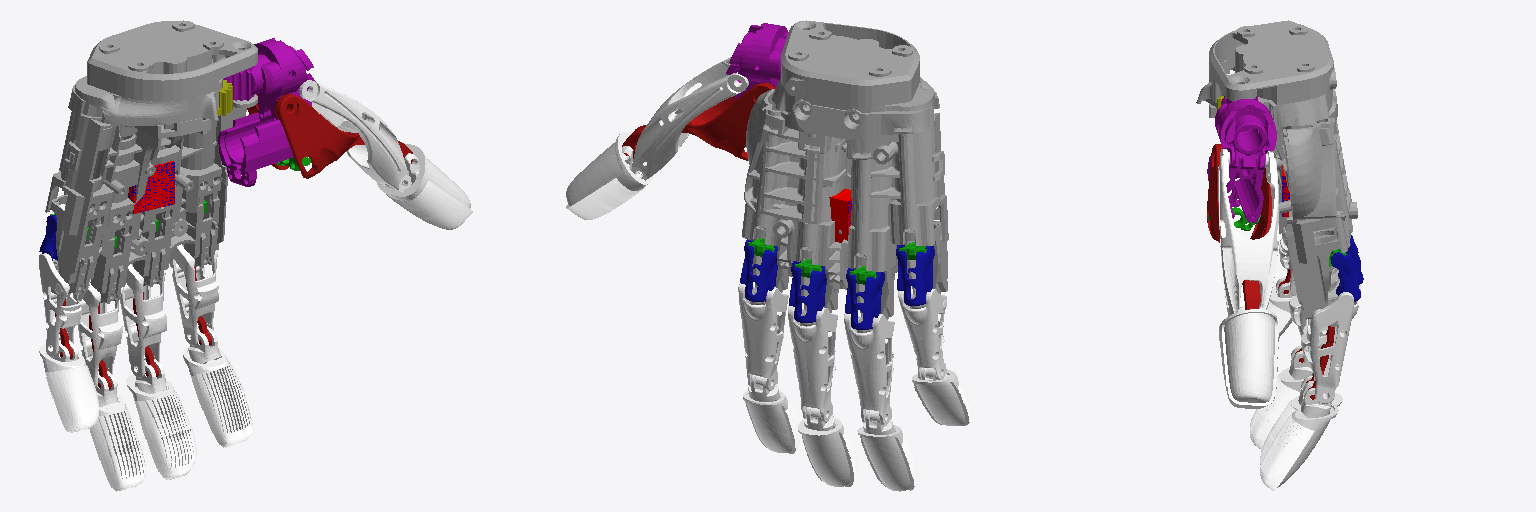
--- What the picture shows (computed from the rendered views, not written in the file) ---
The picture shows the robot from 3 angles, left to right: view 1: azimuth 30°, elevation 25°; view 2: azimuth 150°, elevation 25°; view 3: azimuth 270°, elevation 25°; orthographic projection.
Robot: covvi_hand_left — 87 links, 86 joints (32 revolute, 54 fixed); root link __base_link; default pose: joints at zero except 8 at the middle of their limits (, +8 more).
Links seen in each view (by area): view 1: base_link, thumb_chassis, thumb_proximal, middle_distal, index_distal, ring_distal, thumb_link, thumb_distal, little_distal, middle_proximal, index_proximal, ring_proximal (+2 smaller); view 2: base_link, thumb_proximal, thumb_distal, middle_proximal, ring_proximal, index_proximal, middle_distal, thumb_link, ring_distal, index_distal, thumb_chassis, little_proximal (+6 smaller); view 3: base_link, thumb_distal, thumb_proximal, thumb_chassis, index_distal, index_proximal, thumb_link, ring_distal, index_knuckle, little_distal, middle_distal.
Link boxes in pixels (x1,y1,x2,y2): base_link: [45, 20, 257, 303]; thumb_chassis: [218, 38, 315, 186]; thumb_proximal: [299, 80, 411, 192]; middle_distal: [126, 358, 196, 479]; index_distal: [183, 326, 253, 447]; ring_distal: [90, 369, 145, 491]; thumb_link: [247, 94, 412, 178]; thumb_distal: [377, 144, 472, 229]; little_distal: [39, 338, 98, 432]; middle_proximal: [120, 264, 166, 377]; index_proximal: [169, 244, 218, 345]; ring_proximal: [73, 283, 122, 387]; base_link: [742, 20, 948, 332]; thumb_proximal: [631, 57, 748, 180]; thumb_distal: [566, 132, 653, 219]; middle_proximal: [788, 305, 837, 422]; ring_proximal: [844, 313, 894, 425]; index_proximal: [738, 283, 788, 390]; middle_distal: [798, 402, 857, 486]; thumb_link: [622, 82, 775, 160]; ring_distal: [857, 407, 917, 491]; index_distal: [743, 372, 799, 453]; thumb_chassis: [726, 23, 788, 100]; little_proximal: [898, 289, 946, 379]; base_link: [1196, 20, 1357, 326]; thumb_distal: [1219, 306, 1278, 408]; thumb_proximal: [1218, 149, 1278, 316]; thumb_chassis: [1207, 96, 1276, 222]; index_distal: [1260, 384, 1338, 490]; index_proximal: [1301, 281, 1358, 403]; thumb_link: [1207, 144, 1271, 309]; ring_distal: [1250, 346, 1312, 449]; index_knuckle: [1331, 250, 1360, 301]; little_distal: [1267, 277, 1292, 337]; middle_distal: [1260, 376, 1342, 464].
Bounding box of the posed robot: 9.94 × 3.65 × 10.22 m (x, y, z).
27 mesh visuals loaded from 27 distinct referenced files (27 binary STL).

The robot description file, URDF, robot "covvi_hand_left":
<?xml version="1.0" encoding="utf-8"?>
<robot name="covvi_hand_left">

    <link name="__base_link">
        <visual>
            <origin xyz="0 0 0" rpy="0 0 0"/>
            <geometry><box size="1 1 1"/></geometry>
            <material name="r64740"><color rgba="1 0 0 0"/></material>
        </visual>
        <inertial>
            <mass value="1"/>
            <inertia ixx="1.0" ixy="0.0" ixz="0.0" iyy="1.0" iyz="0.0" izz="1.0"/>
        </inertial>
    </link>

    <link name="_base_link">
        <visual>
            <origin xyz="0 0 0" rpy="0 0 0"/>
            <geometry><box size="1 1 1"/></geometry>
            <material name="r36844"><color rgba="0 0 1 0"/></material>
        </visual>
        <inertial>
            <mass value="1"/>
            <inertia ixx="1.0" ixy="0.0" ixz="0.0" iyy="1.0" iyz="0.0" izz="1.0"/>
        </inertial>
    </link>

    <joint name="__joint_base_link" type="fixed">
        <origin xyz="0 0 0" rpy="-1.5707963267948966 -3.141592653589793 -0.0"/>
        <parent link="__base_link"/>
        <child link="_base_link"/>
        <axis xyz="0 0 1"/>
    </joint>

    <link name="base_link">
        <visual>
            <origin xyz="0.0 0.0 0.0" rpy="0 0 0"/>
            <geometry><mesh filename="package://hand_pack/urdf/linear_meshes/right_base_link.STL" scale="-0.0625 -0.0625 -0.0625"/></geometry>
            <material name=""><color rgba="0.7 0.7 0.7 1.0"/></material>
        </visual>
        <inertial>
            <mass value="0"/>
            <inertia ixx="0.0" ixy="0.0" ixz="0.0" iyy="0.0" iyz="0.0" izz="0.0"/>
        </inertial>
    </link>

    <joint name="_joint_base_link" type="fixed">
        <origin xyz="-0.10717067867517471 3.3973965644836426 -0.6303038001060486" rpy="0 0 0"/>
        <parent link="_base_link"/>
        <child link="base_link"/>
        <axis xyz="0 0 1"/>
    </joint>

        <link name="Thumb_driver_link">
        <visual>
            <origin xyz="0 0 0" rpy="0 0 0"/>
            <geometry><box size="0 0 0"/></geometry>
            <material name="r8581"><color rgba="0 0 0 0"/></material>
        </visual>
        <inertial>
            <mass value="1"/>
            <inertia ixx="1.0" ixy="0.0" ixz="0.0" iyy="1.0" iyz="0.0" izz="1.0"/>
        </inertial>
    </link>
    <joint name="Thumb" type="revolute">
        <origin xyz="0 0 0"/><parent link="base_link"/><child link="Thumb_driver_link"/><axis xyz="0 0 1"/>
        <limit lower="0.00000000000000000000" upper="1.00000000000000000000" effort="0" velocity="0"/>
    </joint>
    <link name="Index_driver_link">
        <visual>
            <origin xyz="0 0 0" rpy="0 0 0"/>
            <geometry><box size="0 0 0"/></geometry>
            <material name="r80096"><color rgba="0 0 0 0"/></material>
        </visual>
        <inertial>
            <mass value="1"/>
            <inertia ixx="1.0" ixy="0.0" ixz="0.0" iyy="1.0" iyz="0.0" izz="1.0"/>
        </inertial>
    </link>
    <joint name="Index" type="revolute">
        <origin xyz="0 0 0"/><parent link="base_link"/><child link="Index_driver_link"/><axis xyz="0 0 1"/>
        <limit lower="0.00000000000000000000" upper="1.00000000000000000000" effort="0" velocity="0"/>
    </joint>
    <link name="Middle_driver_link">
        <visual>
            <origin xyz="0 0 0" rpy="0 0 0"/>
            <geometry><box size="0 0 0"/></geometry>
            <material name="r29195"><color rgba="0 0 0 0"/></material>
        </visual>
        <inertial>
            <mass value="1"/>
            <inertia ixx="1.0" ixy="0.0" ixz="0.0" iyy="1.0" iyz="0.0" izz="1.0"/>
        </inertial>
    </link>
    <joint name="Middle" type="revolute">
        <origin xyz="0 0 0"/><parent link="base_link"/><child link="Middle_driver_link"/><axis xyz="0 0 1"/>
        <limit lower="0.00000000000000000000" upper="1.00000000000000000000" effort="0" velocity="0"/>
    </joint>
    <link name="Ring_driver_link">
        <visual>
            <origin xyz="0 0 0" rpy="0 0 0"/>
            <geometry><box size="0 0 0"/></geometry>
            <material name="r56624"><color rgba="0 0 0 0"/></material>
        </visual>
        <inertial>
            <mass value="1"/>
            <inertia ixx="1.0" ixy="0.0" ixz="0.0" iyy="1.0" iyz="0.0" izz="1.0"/>
        </inertial>
    </link>
    <joint name="Ring" type="revolute">
        <origin xyz="0 0 0"/><parent link="base_link"/><child link="Ring_driver_link"/><axis xyz="0 0 1"/>
        <limit lower="0.00000000000000000000" upper="1.00000000000000000000" effort="0" velocity="0"/>
    </joint>
    <link name="Little_driver_link">
        <visual>
            <origin xyz="0 0 0" rpy="0 0 0"/>
            <geometry><box size="0 0 0"/></geometry>
            <material name="r19059"><color rgba="0 0 0 0"/></material>
        </visual>
        <inertial>
            <mass value="1"/>
            <inertia ixx="1.0" ixy="0.0" ixz="0.0" iyy="1.0" iyz="0.0" izz="1.0"/>
        </inertial>
    </link>
    <joint name="Little" type="revolute">
        <origin xyz="0 0 0"/><parent link="base_link"/><child link="Little_driver_link"/><axis xyz="0 0 1"/>
        <limit lower="0.00000000000000000000" upper="1.00000000000000000000" effort="0" velocity="0"/>
    </joint>
    <link name="Rotate_driver_link">
        <visual>
            <origin xyz="0 0 0" rpy="0 0 0"/>
            <geometry><box size="0 0 0"/></geometry>
            <material name="r99843"><color rgba="0 0 0 0"/></material>
        </visual>
        <inertial>
            <mass value="1"/>
            <inertia ixx="1.0" ixy="0.0" ixz="0.0" iyy="1.0" iyz="0.0" izz="1.0"/>
        </inertial>
    </link>
    <joint name="Rotate" type="revolute">
        <origin xyz="0 0 0"/><parent link="base_link"/><child link="Rotate_driver_link"/><axis xyz="0 0 1"/>
        <limit lower="0.00000000000000000000" upper="1.00000000000000000000" effort="0" velocity="0"/>
    </joint>

        <link name="lisa">
        <visual>
            <origin xyz="0.0 0.0 0.0" rpy="0 0 0"/>
            <geometry><mesh filename="package://hand_pack/urdf/linear_meshes/right_lisa.STL" scale="-0.0625 -0.0625 -0.0625"/></geometry>
            <material name=""><color rgba="0.7 0.7 0.1 1.0"/></material>
        </visual>
        <inertial>
            <mass value="0"/>
            <inertia ixx="0.0" ixy="0.0" ixz="0.0" iyy="0.0" iyz="0.0" izz="0.0"/>
        </inertial>
    </link>
        <link name="_lisa_l0">
        <visual>
            <origin xyz="0 0 0" rpy="0 0 0"/>
            <geometry><box size="0 0 0"/></geometry>
            <material name=""><color rgba="0 0 0 0"/></material>
        </visual>
        <inertial>
            <mass value="0"/>
            <inertia ixx="0.0" ixy="0.0" ixz="0.0" iyy="0.0" iyz="0.0" izz="0.0"/>
        </inertial>
    </link>

    <joint name="_lisa_j_input_joint" type="fixed">
        <origin xyz="-0.6649580028042494 -1.243265013263121 -0.7747941474098129" rpy="-0.00000001490116097180 0 0"/>
        <parent link="base_link"/>
        <axis xyz="8.166136313026937e-09 0.9999999999999999 1.300658039224663e-08"/>
        <child link="_lisa_l0"/>
    </joint>

    
    <link name="_lisa_l1">
        <visual>
            <origin xyz="0 0 -0.00000000000000000000" rpy="0 0 -0.00000001490116097180"/>
            <geometry><box size="0 0 0"/></geometry>
            <material name="r98492"><color rgba="0 0 0 0"/></material>
        </visual>
        <inertial>
            <mass value="1"/>
            <inertia ixx="1.0" ixy="0.0" ixz="0.0" iyy="1.0" iyz="0.0" izz="1.0"/>
        </inertial>
    </link>
    <joint name="_lisa_j01" type="revolute">
        <origin xyz="0 0 0.00000000000000000000" rpy="0 0 0"/>
        <parent link="_lisa_l0"/>
        <child link="_lisa_l1"/>
        <axis xyz="8.166136313026937e-09 0.9999999999999999 1.300658039224663e-08"/>
        <mimic joint="Rotate" multiplier="1.07337741974876732520" offset="0.00000001490116097180"/>
        <limit lower="0.00000001490116097180" upper="1.07337743464992829701" effort="0" velocity="0"/>
    </joint>


    <joint name="_lisa_j_lisa" type="fixed">
        <origin xyz="0.6649580028042494 1.243265013263121 0.7747941474098129" rpy="-0.00000001490116097180 0 0"/>
        <parent link="_lisa_l1"/>
        <child link="lisa"/>
    </joint>
    <link name="thumb_chassis">
        <visual>
            <origin xyz="0.0 0.0 0.0" rpy="0 0 0"/>
            <geometry><mesh filename="package://hand_pack/urdf/linear_meshes/right_thumb_chassis.STL" scale="-0.0625 -0.0625 -0.0625"/></geometry>
            <material name=""><color rgba="0.7 0.1 0.7 1.0"/></material>
        </visual>
        <inertial>
            <mass value="0"/>
            <inertia ixx="0.0" ixy="0.0" ixz="0.0" iyy="0.0" iyz="0.0" izz="0.0"/>
        </inertial>
    </link>
        <link name="_thumb_chassis_l0">
        <visual>
            <origin xyz="0 0 0" rpy="0 0 0"/>
            <geometry><box size="0 0 0"/></geometry>
            <material name=""><color rgba="0 0 0 0"/></material>
        </visual>
        <inertial>
            <mass value="0"/>
            <inertia ixx="0.0" ixy="0.0" ixz="0.0" iyy="0.0" iyz="0.0" izz="0.0"/>
        </inertial>
    </link>

    <joint name="_thumb_chassis_j_input_joint" type="fixed">
        <origin xyz="-1.514903298568658 -1.432445559291959 -0.7844313794953435" rpy="-0.00000002107342389479 0 0"/>
        <parent link="base_link"/>
        <axis xyz="-1.0039121702977482e-08 -0.9999999999999999 1.8777992879094288e-08"/>
        <child link="_thumb_chassis_l0"/>
    </joint>

    
    <link name="_thumb_chassis_l1">
        <visual>
            <origin xyz="0 0 -0.00000000000000000000" rpy="0 0 -0.00000002107342389479"/>
            <geometry><box size="0 0 0"/></geometry>
            <material name="r34489"><color rgba="0 0 0 0"/></material>
        </visual>
        <inertial>
            <mass value="1"/>
            <inertia ixx="1.0" ixy="0.0" ixz="0.0" iyy="1.0" iyz="0.0" izz="1.0"/>
        </inertial>
    </link>
    <joint name="_thumb_chassis_j01" type="revolute">
        <origin xyz="0 0 0.00000000000000000000" rpy="0 0 0"/>
        <parent link="_thumb_chassis_l0"/>
        <child link="_thumb_chassis_l1"/>
        <axis xyz="-1.0039121702977482e-08 -0.9999999999999999 1.8777992879094288e-08"/>
        <mimic joint="Rotate" multiplier="1.53339618284689227501" offset="0.00000002107342389479"/>
        <limit lower="0.00000002107342389479" upper="1.53339620392031616980" effort="0" velocity="0"/>
    </joint>


    <joint name="_thumb_chassis_j_thumb_chassis" type="fixed">
        <origin xyz="1.514903298568658 1.432445559291959 0.7844313794953435" rpy="-0.00000002107342389479 0 0"/>
        <parent link="_thumb_chassis_l1"/>
        <child link="thumb_chassis"/>
    </joint>
    <link name="thumb_proximal">
        <visual>
            <origin xyz="0.0 0.0 0.0" rpy="0 0 0"/>
            <geometry><mesh filename="package://hand_pack/urdf/linear_meshes/right_thumb_proximal.STL" scale="-0.0625 -0.0625 -0.0625"/></geometry>
            <material name=""><color rgba="1.0 1.0 1.0 1.0"/></material>
        </visual>
        <inertial>
            <mass value="0"/>
            <inertia ixx="0.0" ixy="0.0" ixz="0.0" iyy="0.0" iyz="0.0" izz="0.0"/>
        </inertial>
    </link>
        <link name="_thumb_proximal_l0">
        <visual>
            <origin xyz="0 0 0" rpy="0 0 0"/>
            <geometry><box size="0 0 0"/></geometry>
            <material name=""><color rgba="0 0 0 0"/></material>
        </visual>
        <inertial>
            <mass value="0"/>
            <inertia ixx="0.0" ixy="0.0" ixz="0.0" iyy="0.0" iyz="0.0" izz="0.0"/>
        </inertial>
    </link>

    <joint name="_thumb_proximal_j_input_joint" type="fixed">
        <origin xyz="-2.8720356292446443 -1.353914565668949 -0.6504721331635288" rpy="0.00000000000000016653 0 0"/>
        <parent link="thumb_chassis"/>
        <axis xyz="0.14866818156281958 -0.1305261869683429 0.9802350158540093"/>
        <child link="_thumb_proximal_l0"/>
    </joint>

    
    <link name="_thumb_proximal_l1">
        <visual>
            <origin xyz="0 0 -0.00000000000000000000" rpy="0 0 0.00000000000000016653"/>
            <geometry><box size="0 0 0"/></geometry>
            <material name="r31444"><color rgba="0 0 0 0"/></material>
        </visual>
        <inertial>
            <mass value="1"/>
            <inertia ixx="1.0" ixy="0.0" ixz="0.0" iyy="1.0" iyz="0.0" izz="1.0"/>
        </inertial>
    </link>
    <joint name="_thumb_proximal_j01" type="revolute">
        <origin xyz="0 0 0.00000000000000000000" rpy="0 0 0"/>
        <parent link="_thumb_proximal_l0"/>
        <child link="_thumb_proximal_l1"/>
        <axis xyz="0.14866818156281958 -0.1305261869683429 0.9802350158540093"/>
        <mimic joint="Thumb" multiplier="0.72022188617106031039" offset="-0.00000000000000016653"/>
        <limit lower="-0.00000000000000016653" upper="0.72022188617106019937" effort="0" velocity="0"/>
    </joint>


    <joint name="_thumb_proximal_j_thumb_proximal" type="fixed">
        <origin xyz="2.8720356292446443 1.353914565668949 0.6504721331635288" rpy="0.00000000000000016653 0 0"/>
        <parent link="_thumb_proximal_l1"/>
        <child link="thumb_proximal"/>
    </joint>
    <link name="thumb_distal">
        <visual>
            <origin xyz="0.0 0.0 0.0" rpy="0 0 0"/>
            <geometry><mesh filename="package://hand_pack/urdf/linear_meshes/right_thumb_distal.STL" scale="-0.0625 -0.0625 -0.0625"/></geometry>
            <material name=""><color rgba="1.0 1.0 1.0 1.0"/></material>
        </visual>
        <inertial>
            <mass value="0"/>
            <inertia ixx="0.0" ixy="0.0" ixz="0.0" iyy="0.0" iyz="0.0" izz="0.0"/>
        </inertial>
    </link>
        <link name="_thumb_distal_l0">
        <visual>
            <origin xyz="0 0 0" rpy="0 0 0"/>
            <geometry><box size="0 0 0"/></geometry>
            <material name=""><color rgba="0 0 0 0"/></material>
        </visual>
        <inertial>
            <mass value="0"/>
            <inertia ixx="0.0" ixy="0.0" ixz="0.0" iyy="0.0" iyz="0.0" izz="0.0"/>
        </inertial>
    </link>

    <joint name="_thumb_distal_j_input_joint" type="fixed">
        <origin xyz="-5.380329672338689 -4.204299673061814 -0.6377162617521437" rpy="0.00000000000000033307 0 0"/>
        <parent link="thumb_proximal"/>
        <axis xyz="0.1486681537240236 -0.13052619107234176 0.9802350195297231"/>
        <child link="_thumb_distal_l0"/>
    </joint>

    
    <link name="_thumb_distal_l1">
        <visual>
            <origin xyz="0 0 -0.00000000000000000000" rpy="0 0 0.00000000000000033307"/>
            <geometry><box size="0 0 0"/></geometry>
            <material name="r46589"><color rgba="0 0 0 0"/></material>
        </visual>
        <inertial>
            <mass value="1"/>
            <inertia ixx="1.0" ixy="0.0" ixz="0.0" iyy="1.0" iyz="0.0" izz="1.0"/>
        </inertial>
    </link>
    <joint name="_thumb_distal_j01" type="revolute">
        <origin xyz="0 0 0.00000000000000000000" rpy="0 0 0"/>
        <parent link="_thumb_distal_l0"/>
        <child link="_thumb_distal_l1"/>
        <axis xyz="0.1486681537240236 -0.13052619107234176 0.9802350195297231"/>
        <mimic joint="Thumb" multiplier="1.06686018440504470917" offset="-0.00000000000000033307"/>
        <limit lower="-0.00000000000000033307" upper="1.06686018440504426508" effort="0" velocity="0"/>
    </joint>


    <joint name="_thumb_distal_j_thumb_distal" type="fixed">
        <origin xyz="5.380329672338689 4.204299673061814 0.6377162617521437" rpy="0.00000000000000033307 0 0"/>
        <parent link="_thumb_distal_l1"/>
        <child link="thumb_distal"/>
    </joint>
    <link name="thumb_link">
        <visual>
            <origin xyz="0.0 0.0 0.0" rpy="0 0 0"/>
            <geometry><mesh filename="package://hand_pack/urdf/linear_meshes/right_thumb_link.STL" scale="-0.0625 -0.0625 -0.0625"/></geometry>
            <material name=""><color rgba="0.7 0.1 0.1 1.0"/></material>
        </visual>
        <inertial>
            <mass value="0"/>
            <inertia ixx="0.0" ixy="0.0" ixz="0.0" iyy="0.0" iyz="0.0" izz="0.0"/>
        </inertial>
    </link>
        <link name="_thumb_link_l0">
        <visual>
            <origin xyz="0 0 0" rpy="0 0 0"/>
            <geometry><box size="0 0 0"/></geometry>
            <material name=""><color rgba="0 0 0 0"/></material>
        </visual>
        <inertial>
            <mass value="0"/>
            <inertia ixx="0.0" ixy="0.0" ixz="0.0" iyy="0.0" iyz="0.0" izz="0.0"/>
        </inertial>
    </link>

    <joint name="_thumb_link_j_input_joint" type="fixed">
        <origin xyz="-2.3175473087185097 -1.6154584748791998 -0.7720019170415124" rpy="0.00000000000000016653 0 0"/>
        <parent link="thumb_chassis"/>
        <axis xyz="0.1486681500676118 -0.1305261887766519 0.9802350203899655"/>
        <child link="_thumb_link_l0"/>
    </joint>

    
    <link name="_thumb_link_l1">
        <visual>
            <origin xyz="0 0 -0.00000000000000000000" rpy="0 0 0.00000000000000016653"/>
            <geometry><box size="0 0 0"/></geometry>
            <material name="r78345"><color rgba="0 0 0 0"/></material>
        </visual>
        <inertial>
            <mass value="1"/>
            <inertia ixx="1.0" ixy="0.0" ixz="0.0" iyy="1.0" iyz="0.0" izz="1.0"/>
        </inertial>
    </link>
    <joint name="_thumb_link_j01" type="revolute">
        <origin xyz="0 0 0.00000000000000000000" rpy="0 0 0"/>
        <parent link="_thumb_link_l0"/>
        <child link="_thumb_link_l1"/>
        <axis xyz="0.1486681500676118 -0.1305261887766519 0.9802350203899655"/>
        <mimic joint="Thumb" multiplier="0.76799454671461719890" offset="-0.00000000000000016653"/>
        <limit lower="-0.00000000000000016653" upper="0.76799454671461697686" effort="0" velocity="0"/>
    </joint>


    <joint name="_thumb_link_j_thumb_link" type="fixed">
        <origin xyz="2.3175473087185097 1.6154584748791998 0.7720019170415124" rpy="0.00000000000000016653 0 0"/>
        <parent link="_thumb_link_l1"/>
        <child link="thumb_link"/>
    </joint>
    <link name="thumb_follower">
        <visual>
            <origin xyz="0.0 0.0 0.0" rpy="0 0 0"/>
            <geometry><mesh filename="package://hand_pack/urdf/linear_meshes/right_thumb_follower.STL" scale="-0.0625 -0.0625 -0.0625"/></geometry>
            <material name=""><color rgba="0.1 0.7 0.1 1.0"/></material>
        </visual>
        <inertial>
            <mass value="0"/>
            <inertia ixx="0.0" ixy="0.0" ixz="0.0" iyy="0.0" iyz="0.0" izz="0.0"/>
        </inertial>
    </link>
        <link name="_thumb_follower_l0">
        <visual>
            <origin xyz="0 0 0" rpy="0 0 0"/>
            <geometry><box size="0 0 0"/></geometry>
            <material name=""><color rgba="0 0 0 0"/></material>
        </visual>
        <inertial>
            <mass value="0"/>
            <inertia ixx="0.0" ixy="0.0" ixz="0.0" iyy="0.0" iyz="0.0" izz="0.0"/>
        </inertial>
    </link>

    <joint name="_thumb_follower_j_input_joint" type="fixed">
        <origin xyz="-2.720835809921482 -2.848104079083896 -0.8664653479863773" rpy="0.00000000000000022204 0 0"/>
        <parent link="thumb_link"/>
        <axis xyz="-0.1486655629842887 0.13052549101972807 -0.9802355056702565"/>
        <child link="_thumb_follower_l0"/>
    </joint>

    
    <link name="_thumb_follower_l1">
        <visual>
            <origin xyz="0 0 -0.00000000000000000000" rpy="0 0 0.00000000000000022204"/>
            <geometry><box size="0 0 0"/></geometry>
            <material name="r59459"><color rgba="0 0 0 0"/></material>
        </visual>
        <inertial>
            <mass value="1"/>
            <inertia ixx="1.0" ixy="0.0" ixz="0.0" iyy="1.0" iyz="0.0" izz="1.0"/>
        </inertial>
    </link>
    <joint name="_thumb_follower_j01" type="revolute">
        <origin xyz="0 0 0.00000000000000000000" rpy="0 0 0"/>
        <parent link="_thumb_follower_l0"/>
        <child link="_thumb_follower_l1"/>
        <axis xyz="-0.1486655629842887 0.13052549101972807 -0.9802355056702565"/>
        <mimic joint="Thumb" multiplier="0.93732763826281451092" offset="-0.00000000000000022204"/>
        <limit lower="-0.00000000000000022204" upper="0.93732763826281428887" effort="0" velocity="0"/>
    </joint>


    <joint name="_thumb_follower_j_thumb_follower" type="fixed">
        <origin xyz="2.720835809921482 2.848104079083896 0.8664653479863773" rpy="0.00000000000000022204 0 0"/>
        <parent link="_thumb_follower_l1"/>
        <child link="thumb_follower"/>
    </joint>
    <link name="index_proximal">
        <visual>
            <origin xyz="0.0 0.0 0.0" rpy="0 0 0"/>
            <geometry><mesh filename="package://hand_pack/urdf/linear_meshes/right_index_proximal.STL" scale="-0.0625 -0.0625 -0.0625"/></geometry>
            <material name=""><color rgba="1.0 1.0 1.0 1.0"/></material>
        </visual>
        <inertial>
            <mass value="0"/>
            <inertia ixx="0.0" ixy="0.0" ixz="0.0" iyy="0.0" iyz="0.0" izz="0.0"/>
        </inertial>
    </link>
        <link name="_index_proximal_l0">
        <visual>
            <origin xyz="0 0 0" rpy="0 0 0"/>
            <geometry><box size="0 0 0"/></geometry>
            <material name=""><color rgba="0 0 0 0"/></material>
        </visual>
        <inertial>
            <mass value="0"/>
            <inertia ixx="0.0" ixy="0.0" ixz="0.0" iyy="0.0" iyz="0.0" izz="0.0"/>
        </inertial>
    </link>

    <joint name="_index_proximal_j_input_joint" type="fixed">
        <origin xyz="-1.4438636714684971 -5.709859526571508 0.9223736237943079" rpy="-0.00000001490116086078 0 0"/>
        <parent link="base_link"/>
        <axis xyz="0.9935814517046622 -0.052307286750173175 -0.10029878653947531"/>
        <child link="_index_proximal_l0"/>
    </joint>

    
    <link name="_index_proximal_l1">
        <visual>
            <origin xyz="0 0 -0.00000000000000000000" rpy="0 0 -0.00000001490116086078"/>
            <geometry><box size="0 0 0"/></geometry>
            <material name="r24811"><color rgba="0 0 0 0"/></material>
        </visual>
        <inertial>
            <mass value="1"/>
            <inertia ixx="1.0" ixy="0.0" ixz="0.0" iyy="1.0" iyz="0.0" izz="1.0"/>
        </inertial>
    </link>
    <joint name="_index_proximal_j01" type="revolute">
        <origin xyz="0 0 0.00000000000000000000" rpy="0 0 0"/>
        <parent link="_index_proximal_l0"/>
        <child link="_index_proximal_l1"/>
        <axis xyz="0.9935814517046622 -0.052307286750173175 -0.10029878653947531"/>
        <mimic joint="Index" multiplier="1.51604339913513674887" offset="0.00000001490116086078"/>
        <limit lower="0.00000001490116086078" upper="1.51604341403629772067" effort="0" velocity="0"/>
    </joint>


    <joint name="_index_proximal_j_index_proximal" type="fixed">
        <origin xyz="1.4438636714684971 5.709859526571508 -0.9223736237943079" rpy="-0.00000001490116086078 0 0"/>
        <parent link="_index_proximal_l1"/>
        <child link="index_proximal"/>
    </joint>
    <link name="index_distal">
        <visual>
            <origin xyz="0.0 0.0 0.0" rpy="0 0 0"/>
            <geometry><mesh filename="package://hand_pack/urdf/linear_meshes/right_index_distal.STL" scale="-0.0625 -0.0625 -0.0625"/></geometry>
            <material name=""><color rgba="1.0 1.0 1.0 1.0"/></material>
        </visual>
        <inertial>
            <mass value="0"/>
            <inertia ixx="0.0" ixy="0.0" ixz="0.0" iyy="0.0" iyz="0.0" izz="0.0"/>
        </inertial>
    </link>
        <link name="_index_distal_l0">
        <visual>
            <origin xyz="0 0 0" rpy="0 0 0"/>
            <geometry><box size="0 0 0"/></geometry>
            <material name=""><color rgba="0 0 0 0"/></material>
        </visual>
        <inertial>
            <mass value="0"/>
            <inertia ixx="0.0" ixy="0.0" ixz="0.0" iyy="0.0" iyz="0.0" izz="0.0"/>
        </inertial>
    </link>

    <joint name="_index_distal_j_input_joint" type="fixed">
        <origin xyz="-1.5070534999285634 -7.578488986309617 1.0647940483682832" rpy="-0.00000002107342395030 0 0"/>
        <parent link="index_proximal"/>
        <axis xyz="0.9935814496116296 -0.0523072979212324 -0.10029880144763517"/>
        <child link="_index_distal_l0"/>
    </joint>

    
    <link name="_index_distal_l1">
        <visual>
            <origin xyz="0 0 -0.00000000000000000000" rpy="0 0 -0.00000002107342395030"/>
            <geometry><box size="0 0 0"/></geometry>
            <material name="r99214"><color rgba="0 0 0 0"/></material>
        </visual>
        <inertial>
            <mass value="1"/>
            <inertia ixx="1.0" ixy="0.0" ixz="0.0" iyy="1.0" iyz="0.0" izz="1.0"/>
        </inertial>
    </link>
    <joint name="_index_distal_j01" type="revolute">
        <origin xyz="0 0 0.00000000000000000000" rpy="0 0 0"/>
        <parent link="_index_distal_l0"/>
        <child link="_index_distal_l1"/>
        <axis xyz="0.9935814496116296 -0.0523072979212324 -0.10029880144763517"/>
        <mimic joint="Index" multiplier="1.33574108836935590006" offset="0.00000002107342395030"/>
        <limit lower="0.00000002107342395030" upper="1.33574110944277979485" effort="0" velocity="0"/>
    </joint>


    <joint name="_index_distal_j_index_distal" type="fixed">
        <origin xyz="1.5070534999285634 7.578488986309617 -1.0647940483682832" rpy="-0.00000002107342395030 0 0"/>
        <parent link="_index_distal_l1"/>
        <child link="index_distal"/>
    </joint>
    <link name="index_knuckle">
        <visual>
            <origin xyz="0.0 0.0 0.0" rpy="0 0 0"/>
            <geometry><mesh filename="package://hand_pack/urdf/linear_meshes/right_index_knuckle.STL" scale="-0.0625 -0.0625 -0.0625"/></geometry>
            <material name=""><color rgba="0.1 0.1 0.7 1.0"/></material>
        </visual>
        <inertial>
            <mass value="0"/>
            <inertia ixx="0.0" ixy="0.0" ixz="0.0" iyy="0.0" iyz="0.0" izz="0.0"/>
        </inertial>
    </link>
        <link name="_index_knuckle_l0">
        <visual>
            <origin xyz="0 0 0" rpy="0 0 0"/>
            <geometry><box size="0 0 0"/></geometry>
            <material name=""><color rgba="0 0 0 0"/></material>
        </visual>
        <inertial>
            <mass value="0"/>
            <inertia ixx="0.0" ixy="0.0" ixz="0.0" iyy="0.0" iyz="0.0" izz="0.0"/>
        </inertial>
    </link>

    <joint name="_index_knuckle_j_input_joint" type="fixed">
        <origin xyz="-1.366060538694307 -5.324288335618494 1.4862338867796852" rpy="-0.00000002107342400581 0 0"/>
        <parent link="index_proximal"/>
        <axis xyz="-0.9935814514632575 0.05230723732964991 0.10029881470439378"/>
        <child link="_index_knuckle_l0"/>
    </joint>

    
    <link name="_index_knuckle_l1">
        <visual>
            <origin xyz="0 0 -0.00000000000000000000" rpy="0 0 -0.00000002107342400581"/>
            <geometry><box size="0 0 0"/></geometry>
            <material name="r38939"><color rgba="0 0 0 0"/></material>
        </visual>
        <inertial>
            <mass value="1"/>
            <inertia ixx="1.0" ixy="0.0" ixz="0.0" iyy="1.0" iyz="0.0" izz="1.0"/>
        </inertial>
    </link>
    <joint name="_index_knuckle_j01" type="revolute">
        <origin xyz="0 0 0.00000000000000000000" rpy="0 0 0"/>
        <parent link="_index_knuckle_l0"/>
        <child link="_index_knuckle_l1"/>
        <axis xyz="-0.9935814514632575 0.05230723732964991 0.10029881470439378"/>
        <mimic joint="Index" multiplier="1.25181519799450313712" offset="0.00000002107342400581"/>
        <limit lower="0.00000002107342400581" upper="1.25181521906792703192" effort="0" velocity="0"/>
    </joint>


    <joint name="_index_knuckle_j_index_knuckle" type="fixed">
        <origin xyz="1.366060538694307 5.324288335618494 -1.4862338867796852" rpy="-0.00000002107342400581 0 0"/>
        <parent link="_index_knuckle_l1"/>
        <child link="index_knuckle"/>
    </joint>
    <link name="index_follower">
        <visual>
            <origin xyz="0.0 0.0 0.0" rpy="0 0 0"/>
            <geometry><mesh filename="package://hand_pack/urdf/linear_meshes/right_index_follower.STL" scale="-0.0625 -0.0625 -0.0625"/></geometry>
            <material name=""><color rgba="0.1 0.7 0.1 1.0"/></material>
        </visual>
        <inertial>
            <mass value="0"/>
            <inertia ixx="0.0" ixy="0.0" ixz="0.0" iyy="0.0" iyz="0.0" izz="0.0"/>
        </inertial>
    </link>
        <link name="_index_follower_l0">
        <visual>
            <origin xyz="0 0 0" rpy="0 0 0"/>
            <geometry><box size="0 0 0"/></geometry>
            <material name=""><color rgba="0 0 0 0"/></material>
        </visual>
        <inertial>
            <mass value="0"/>
            <inertia ixx="0.0" ixy="0.0" ixz="0.0" iyy="0.0" iyz="0.0" izz="0.0"/>
        </inertial>
    </link>

    <joint name="_index_follower_j_input_joint" type="fixed">
        <origin xyz="-1.3289578043144759 -4.198973084070179 1.3040394900270869" rpy="0.00000000000000005551 0 0"/>
        <parent link="index_knuckle"/>
        <axis xyz="-0.9935816391717812 0.05230592427414335 0.10029763998491735"/>
        <child link="_index_follower_l0"/>
    </joint>

    
    <link name="_index_follower_l1">
        <visual>
            <origin xyz="0 0 -0.00000000000000000000" rpy="0 0 0.00000000000000005551"/>
            <geometry><box size="0 0 0"/></geometry>
            <material name="r19169"><color rgba="0 0 0 0"/></material>
        </visual>
        <inertial>
            <mass value="1"/>
            <inertia ixx="1.0" ixy="0.0" ixz="0.0" iyy="1.0" iyz="0.0" izz="1.0"/>
        </inertial>
    </link>
    <joint name="_index_follower_j01" type="revolute">
        <origin xyz="0 0 0.00000000000000000000" rpy="0 0 0"/>
        <parent link="_index_follower_l0"/>
        <child link="_index_follower_l1"/>
        <axis xyz="-0.9935816391717812 0.05230592427414335 0.10029763998491735"/>
        <mimic joint="Index" multiplier="0.26422627443923907276" offset="-0.00000000000000005551"/>
        <limit lower="-0.00000000000000005551" upper="0.26422627443923901724" effort="0" velocity="0"/>
    </joint>


    <joint name="_index_follower_j_index_follower" type="fixed">
        <origin xyz="1.3289578043144759 4.198973084070179 -1.3040394900270869" rpy="0.00000000000000005551 0 0"/>
        <parent link="_index_follower_l1"/>
        <child link="index_follower"/>
    </joint>
    <link name="index_link">
        <visual>
            <origin xyz="0.0 0.0 0.0" rpy="0 0 0"/>
            <geometry><mesh filename="package://hand_pack/urdf/linear_meshes/right_index_link.STL" scale="-0.0625 -0.0625 -0.0625"/></geometry>
            <material name=""><color rgba="0.7 0.1 0.1 1.0"/></material>
        </visual>
        <inertial>
            <mass value="0"/>
            <inertia ixx="0.0" ixy="0.0" ixz="0.0" iyy="0.0" iyz="0.0" izz="0.0"/>
        </inertial>
    </link>
        <link name="_index_link_l0">
        <visual>
            <origin xyz="0 0 0" rpy="0 0 0"/>
            <geometry><box size="0 0 0"/></geometry>
            <material name=""><color rgba="0 0 0 0"/></material>
        </visual>
        <inertial>
            <mass value="0"/>
            <inertia ixx="0.0" ixy="0.0" ixz="0.0" iyy="0.0" iyz="0.0" izz="0.0"/>
        </inertial>
    </link>

    <joint name="_index_link_j_input_joint" type="fixed">
        <origin xyz="-1.3943596383310624 -5.7976159675856795 1.1863715383108244" rpy="0.00000000000000033307 0 0"/>
        <parent link="base_link"/>
        <axis xyz="0.9935814462116063 -0.05230730452290644 -0.10029883168612273"/>
        <child link="_index_link_l0"/>
    </joint>

    
    <link name="_index_link_l1">
        <visual>
            <origin xyz="0 0 -0.00000000000000000000" rpy="0 0 0.00000000000000033307"/>
            <geometry><box size="0 0 0"/></geometry>
            <material name="r76827"><color rgba="0 0 0 0"/></material>
        </visual>
        <inertial>
            <mass value="1"/>
            <inertia ixx="1.0" ixy="0.0" ixz="0.0" iyy="1.0" iyz="0.0" izz="1.0"/>
        </inertial>
    </link>
    <joint name="_index_link_j01" type="revolute">
        <origin xyz="0 0 0.00000000000000000000" rpy="0 0 0"/>
        <parent link="_index_link_l0"/>
        <child link="_index_link_l1"/>
        <axis xyz="0.9935814462116063 -0.05230730452290644 -0.10029883168612273"/>
        <mimic joint="Index" multiplier="1.33574038782547521720" offset="-0.00000000000000033307"/>
        <limit lower="-0.00000000000000033307" upper="1.33574038782547499515" effort="0" velocity="0"/>
    </joint>


    <joint name="_index_link_j_index_link" type="fixed">
        <origin xyz="1.3943596383310624 5.7976159675856795 -1.1863715383108244" rpy="0.00000000000000033307 0 0"/>
        <parent link="_index_link_l1"/>
        <child link="index_link"/>
    </joint>
    <link name="middle_proximal">
        <visual>
            <origin xyz="0.0 0.0 0.0" rpy="0 0 0"/>
            <geometry><mesh filename="package://hand_pack/urdf/linear_meshes/right_middle_proximal.STL" scale="-0.0625 -0.0625 -0.0625"/></geometry>
            <material name=""><color rgba="1.0 1.0 1.0 1.0"/></material>
        </visual>
        <inertial>
            <mass value="0"/>
            <inertia ixx="0.0" ixy="0.0" ixz="0.0" iyy="0.0" iyz="0.0" izz="0.0"/>
        </inertial>
    </link>
        <link name="_middle_proximal_l0">
        <visual>
            <origin xyz="0 0 0" rpy="0 0 0"/>
            <geometry><box size="0 0 0"/></geometry>
            <material name=""><color rgba="0 0 0 0"/></material>
        </visual>
        <inertial>
            <mass value="0"/>
            <inertia ixx="0.0" ixy="0.0" ixz="0.0" iyy="0.0" iyz="0.0" izz="0.0"/>
        </inertial>
    </link>

    <joint name="_middle_proximal_j_input_joint" type="fixed">
        <origin xyz="-0.20973618604014632 -5.898534205707262 0.9712659363241443" rpy="0.00000000000000055511 0 0"/>
        <parent link="base_link"/>
        <axis xyz="0.9910685918607293 1.8063346067449371e-09 -0.13335308855512615"/>
        <child link="_middle_proximal_l0"/>
    </joint>

    
    <link name="_middle_proximal_l1">
        <visual>
            <origin xyz="0 0 -0.00000000000000000000" rpy="0 0 0.00000000000000055511"/>
            <geometry><box size="0 0 0"/></geometry>
            <material name="r61102"><color rgba="0 0 0 0"/></material>
        </visual>
        <inertial>
            <mass value="1"/>
            <inertia ixx="1.0" ixy="0.0" ixz="0.0" iyy="1.0" iyz="0.0" izz="1.0"/>
        </inertial>
    </link>
    <joint name="_middle_proximal_j01" type="revolute">
        <origin xyz="0 0 0.00000000000000000000" rpy="0 0 0"/>
        <parent link="_middle_proximal_l0"/>
        <child link="_middle_proximal_l1"/>
        <axis xyz="0.9910685918607293 1.8063346067449371e-09 -0.13335308855512615"/>
        <mimic joint="Middle" multiplier="1.51604368978713033300" offset="-0.00000000000000055511"/>
        <limit lower="-0.00000000000000055511" upper="1.51604368978712988891" effort="0" velocity="0"/>
    </joint>


    <joint name="_middle_proximal_j_middle_proximal" type="fixed">
        <origin xyz="0.20973618604014632 5.898534205707262 -0.9712659363241443" rpy="0.00000000000000055511 0 0"/>
        <parent link="_middle_proximal_l1"/>
        <child link="middle_proximal"/>
    </joint>
    <link name="middle_distal">
        <visual>
            <origin xyz="0.0 0.0 0.0" rpy="0 0 0"/>
            <geometry><mesh filename="package://hand_pack/urdf/linear_meshes/right_middle_distal.STL" scale="-0.0625 -0.0625 -0.0625"/></geometry>
            <material name=""><color rgba="1.0 1.0 1.0 1.0"/></material>
        </visual>
        <inertial>
            <mass value="0"/>
            <inertia ixx="0.0" ixy="0.0" ixz="0.0" iyy="0.0" iyz="0.0" izz="0.0"/>
        </inertial>
    </link>
        <link name="_middle_distal_l0">
        <visual>
            <origin xyz="0 0 0" rpy="0 0 0"/>
            <geometry><box size="0 0 0"/></geometry>
            <material name=""><color rgba="0 0 0 0"/></material>
        </visual>
        <inertial>
            <mass value="0"/>
            <inertia ixx="0.0" ixy="0.0" ixz="0.0" iyy="0.0" iyz="0.0" izz="0.0"/>
        </inertial>
    </link>

    <joint name="_middle_distal_j_input_joint" type="fixed">
        <origin xyz="-0.19688874055412953 -8.022176691106141 1.0461525552984252" rpy="-0.00000002107342389479 0 0"/>
        <parent link="middle_proximal"/>
        <axis xyz="0.9910685909316314 -1.689482686870114e-09 -0.13335309546010102"/>
        <child link="_middle_distal_l0"/>
    </joint>

    
    <link name="_middle_distal_l1">
        <visual>
            <origin xyz="0 0 -0.00000000000000000000" rpy="0 0 -0.00000002107342389479"/>
            <geometry><box size="0 0 0"/></geometry>
            <material name="r50609"><color rgba="0 0 0 0"/></material>
        </visual>
        <inertial>
            <mass value="1"/>
            <inertia ixx="1.0" ixy="0.0" ixz="0.0" iyy="1.0" iyz="0.0" izz="1.0"/>
        </inertial>
    </link>
    <joint name="_middle_distal_j01" type="revolute">
        <origin xyz="0 0 0.00000000000000000000" rpy="0 0 0"/>
        <parent link="_middle_distal_l0"/>
        <child link="_middle_distal_l1"/>
        <axis xyz="0.9910685909316314 -1.689482686870114e-09 -0.13335309546010102"/>
        <mimic joint="Middle" multiplier="1.34986011532341310115" offset="0.00000002107342389479"/>
        <limit lower="0.00000002107342389479" upper="1.34986013639683699594" effort="0" velocity="0"/>
    </joint>


    <joint name="_middle_distal_j_middle_distal" type="fixed">
        <origin xyz="0.19688874055412953 8.022176691106141 -1.0461525552984252" rpy="-0.00000002107342389479 0 0"/>
        <parent link="_middle_distal_l1"/>
        <child link="middle_distal"/>
    </joint>
    <link name="middle_knuckle">
        <visual>
            <origin xyz="0.0 0.0 0.0" rpy="0 0 0"/>
            <geometry><mesh filename="package://hand_pack/urdf/linear_meshes/right_middle_knuckle.STL" scale="-0.0625 -0.0625 -0.0625"/></geometry>
            <material name=""><color rgba="0.1 0.1 0.7 1.0"/></material>
        </visual>
        <inertial>
            <mass value="0"/>
            <inertia ixx="0.0" ixy="0.0" ixz="0.0" iyy="0.0" iyz="0.0" izz="0.0"/>
        </inertial>
    </link>
        <link name="_middle_knuckle_l0">
        <visual>
            <origin xyz="0 0 0" rpy="0 0 0"/>
            <geometry><box size="0 0 0"/></geometry>
            <material name=""><color rgba="0 0 0 0"/></material>
        </visual>
        <inertial>
            <mass value="0"/>
            <inertia ixx="0.0" ixy="0.0" ixz="0.0" iyy="0.0" iyz="0.0" izz="0.0"/>
        </inertial>
    </link>

    <joint name="_middle_knuckle_j_input_joint" type="fixed">
        <origin xyz="-0.1327026701136127 -5.513391010636881 1.535525341148929" rpy="0.00000000000000022204 0 0"/>
        <parent link="middle_proximal"/>
        <axis xyz="-0.9910685921320656 -5.1727278766516505e-09 0.13335308653857816"/>
        <child link="_middle_knuckle_l0"/>
    </joint>

    
    <link name="_middle_knuckle_l1">
        <visual>
            <origin xyz="0 0 -0.00000000000000000000" rpy="0 0 0.00000000000000022204"/>
            <geometry><box size="0 0 0"/></geometry>
            <material name="r34011"><color rgba="0 0 0 0"/></material>
        </visual>
        <inertial>
            <mass value="1"/>
            <inertia ixx="1.0" ixy="0.0" ixz="0.0" iyy="1.0" iyz="0.0" izz="1.0"/>
        </inertial>
    </link>
    <joint name="_middle_knuckle_j01" type="revolute">
        <origin xyz="0 0 0.00000000000000000000" rpy="0 0 0"/>
        <parent link="_middle_knuckle_l0"/>
        <child link="_middle_knuckle_l1"/>
        <axis xyz="-0.9910685921320656 -5.1727278766516505e-09 0.13335308653857816"/>
        <mimic joint="Middle" multiplier="1.25181499257524908586" offset="-0.00000000000000022204"/>
        <limit lower="-0.00000000000000022204" upper="1.25181499257524886382" effort="0" velocity="0"/>
    </joint>


    <joint name="_middle_knuckle_j_middle_knuckle" type="fixed">
        <origin xyz="0.1327026701136127 5.513391010636881 -1.535525341148929" rpy="0.00000000000000022204 0 0"/>
        <parent link="_middle_knuckle_l1"/>
        <child link="middle_knuckle"/>
    </joint>
    <link name="middle_follower">
        <visual>
            <origin xyz="0.0 0.0 0.0" rpy="0 0 0"/>
            <geometry><mesh filename="package://hand_pack/urdf/linear_meshes/right_middle_follower.STL" scale="-0.0625 -0.0625 -0.0625"/></geometry>
            <material name=""><color rgba="0.1 0.7 0.1 1.0"/></material>
        </visual>
        <inertial>
            <mass value="0"/>
            <inertia ixx="0.0" ixy="0.0" ixz="0.0" iyy="0.0" iyz="0.0" izz="0.0"/>
        </inertial>
    </link>
        <link name="_middle_follower_l0">
        <visual>
            <origin xyz="0 0 0" rpy="0 0 0"/>
            <geometry><box size="0 0 0"/></geometry>
            <material name=""><color rgba="0 0 0 0"/></material>
        </visual>
        <inertial>
            <mass value="0"/>
            <inertia ixx="0.0" ixy="0.0" ixz="0.0" iyy="0.0" iyz="0.0" izz="0.0"/>
        </inertial>
    </link>

    <joint name="_middle_follower_j_input_joint" type="fixed">
        <origin xyz="-0.15980891875989833 -4.386421938486642 1.361995902128741" rpy="0.00000000000000005551 0 0"/>
        <parent link="middle_knuckle"/>
        <axis xyz="-0.9910686221283496 -3.493623730798563e-07 0.13335286360814524"/>
        <child link="_middle_follower_l0"/>
    </joint>

    
    <link name="_middle_follower_l1">
        <visual>
            <origin xyz="0 0 -0.00000000000000000000" rpy="0 0 0.00000000000000005551"/>
            <geometry><box size="0 0 0"/></geometry>
            <material name="r39033"><color rgba="0 0 0 0"/></material>
        </visual>
        <inertial>
            <mass value="1"/>
            <inertia ixx="1.0" ixy="0.0" ixz="0.0" iyy="1.0" iyz="0.0" izz="1.0"/>
        </inertial>
    </link>
    <joint name="_middle_follower_j01" type="revolute">
        <origin xyz="0 0 0.00000000000000000000" rpy="0 0 0"/>
        <parent link="_middle_follower_l0"/>
        <child link="_middle_follower_l1"/>
        <axis xyz="-0.9910686221283496 -3.493623730798563e-07 0.13335286360814524"/>
        <mimic joint="Middle" multiplier="0.26422641895880322194" offset="-0.00000000000000005551"/>
        <limit lower="-0.00000000000000005551" upper="0.26422641895880316643" effort="0" velocity="0"/>
    </joint>


    <joint name="_middle_follower_j_middle_follower" type="fixed">
        <origin xyz="0.15980891875989833 4.386421938486642 -1.361995902128741" rpy="0.00000000000000005551 0 0"/>
        <parent link="_middle_follower_l1"/>
        <child link="middle_follower"/>
    </joint>
    <link name="middle_link">
        <visual>
            <origin xyz="0.0 0.0 0.0" rpy="0 0 0"/>
            <geometry><mesh filename="package://hand_pack/urdf/linear_meshes/right_middle_link.STL" scale="-0.0625 -0.0625 -0.0625"/></geometry>
            <material name=""><color rgba="0.7 0.1 0.1 1.0"/></material>
        </visual>
        <inertial>
            <mass value="0"/>
            <inertia ixx="0.0" ixy="0.0" ixz="0.0" iyy="0.0" iyz="0.0" izz="0.0"/>
        </inertial>
    </link>
        <link name="_middle_link_l0">
        <visual>
            <origin xyz="0 0 0" rpy="0 0 0"/>
            <geometry><box size="0 0 0"/></geometry>
            <material name=""><color rgba="0 0 0 0"/></material>
        </visual>
        <inertial>
            <mass value="0"/>
            <inertia ixx="0.0" ixy="0.0" ixz="0.0" iyy="0.0" iyz="0.0" izz="0.0"/>
        </inertial>
    </link>

    <joint name="_middle_link_j_input_joint" type="fixed">
        <origin xyz="-0.1485688418916027 -5.985445071198181 1.232930729247692" rpy="0.00000000000000027756 0 0"/>
        <parent link="base_link"/>
        <axis xyz="0.991068591048481 -2.638530424585682e-09 -0.13335309459168482"/>
        <child link="_middle_link_l0"/>
    </joint>

    
    <link name="_middle_link_l1">
        <visual>
            <origin xyz="0 0 -0.00000000000000000000" rpy="0 0 0.00000000000000027756"/>
            <geometry><box size="0 0 0"/></geometry>
            <material name="r87250"><color rgba="0 0 0 0"/></material>
        </visual>
        <inertial>
            <mass value="1"/>
            <inertia ixx="1.0" ixy="0.0" ixz="0.0" iyy="1.0" iyz="0.0" izz="1.0"/>
        </inertial>
    </link>
    <joint name="_middle_link_j01" type="revolute">
        <origin xyz="0 0 0.00000000000000000000" rpy="0 0 0"/>
        <parent link="_middle_link_l0"/>
        <child link="_middle_link_l1"/>
        <axis xyz="0.991068591048481 -2.638530424585682e-09 -0.13335309459168482"/>
        <mimic joint="Middle" multiplier="1.34986028913700661924" offset="-0.00000000000000027756"/>
        <limit lower="-0.00000000000000027756" upper="1.34986028913700639720" effort="0" velocity="0"/>
    </joint>


    <joint name="_middle_link_j_middle_link" type="fixed">
        <origin xyz="0.1485688418916027 5.985445071198181 -1.232930729247692" rpy="0.00000000000000027756 0 0"/>
        <parent link="_middle_link_l1"/>
        <child link="middle_link"/>
    </joint>
    <link name="ring_proximal">
        <visual>
            <origin xyz="0.0 0.0 0.0" rpy="0 0 0"/>
            <geometry><mesh filename="package://hand_pack/urdf/linear_meshes/right_ring_proximal.STL" scale="-0.0625 -0.0625 -0.0625"/></geometry>
            <material name=""><color rgba="1.0 1.0 1.0 1.0"/></material>
        </visual>
        <inertial>
            <mass value="0"/>
            <inertia ixx="0.0" ixy="0.0" ixz="0.0" iyy="0.0" iyz="0.0" izz="0.0"/>
        </inertial>
    </link>
        <link name="_ring_proximal_l0">
        <visual>
            <origin xyz="0 0 0" rpy="0 0 0"/>
            <geometry><box size="0 0 0"/></geometry>
            <material name=""><color rgba="0 0 0 0"/></material>
        </visual>
        <inertial>
            <mass value="0"/>
            <inertia ixx="0.0" ixy="0.0" ixz="0.0" iyy="0.0" iyz="0.0" izz="0.0"/>
        </inertial>
    </link>

    <joint name="_ring_proximal_j_input_joint" type="fixed">
        <origin xyz="1.0126493534897856 -5.898556410085637 0.6806766424213684" rpy="0.00000000000000022204 0 0"/>
        <parent link="base_link"/>
        <axis xyz="0.9904648606189275 0.03489949479855251 -0.1332718467716812"/>
        <child link="_ring_proximal_l0"/>
    </joint>

    
    <link name="_ring_proximal_l1">
        <visual>
            <origin xyz="0 0 -0.00000000000000000000" rpy="0 0 0.00000000000000022204"/>
            <geometry><box size="0 0 0"/></geometry>
            <material name="r76570"><color rgba="0 0 0 0"/></material>
        </visual>
        <inertial>
            <mass value="1"/>
            <inertia ixx="1.0" ixy="0.0" ixz="0.0" iyy="1.0" iyz="0.0" izz="1.0"/>
        </inertial>
    </link>
    <joint name="_ring_proximal_j01" type="revolute">
        <origin xyz="0 0 0.00000000000000000000" rpy="0 0 0"/>
        <parent link="_ring_proximal_l0"/>
        <child link="_ring_proximal_l1"/>
        <axis xyz="0.9904648606189275 0.03489949479855251 -0.1332718467716812"/>
        <mimic joint="Ring" multiplier="1.51604328762193563129" offset="-0.00000000000000022204"/>
        <limit lower="-0.00000000000000022204" upper="1.51604328762193540925" effort="0" velocity="0"/>
    </joint>


    <joint name="_ring_proximal_j_ring_proximal" type="fixed">
        <origin xyz="-1.0126493534897856 5.898556410085637 -0.6806766424213684" rpy="0.00000000000000022204 0 0"/>
        <parent link="_ring_proximal_l1"/>
        <child link="ring_proximal"/>
    </joint>
    <link name="ring_distal">
        <visual>
            <origin xyz="0.0 0.0 0.0" rpy="0 0 0"/>
            <geometry><mesh filename="package://hand_pack/urdf/linear_meshes/right_ring_distal.STL" scale="-0.0625 -0.0625 -0.0625"/></geometry>
            <material name=""><color rgba="1.0 1.0 1.0 1.0"/></material>
        </visual>
        <inertial>
            <mass value="0"/>
            <inertia ixx="0.0" ixy="0.0" ixz="0.0" iyy="0.0" iyz="0.0" izz="0.0"/>
        </inertial>
    </link>
        <link name="_ring_distal_l0">
        <visual>
            <origin xyz="0 0 0" rpy="0 0 0"/>
            <geometry><box size="0 0 0"/></geometry>
            <material name=""><color rgba="0 0 0 0"/></material>
        </visual>
        <inertial>
            <mass value="0"/>
            <inertia ixx="0.0" ixy="0.0" ixz="0.0" iyy="0.0" iyz="0.0" izz="0.0"/>
        </inertial>
    </link>

    <joint name="_ring_distal_j_input_joint" type="fixed">
        <origin xyz="1.1013923470306217 -7.892249906746441 0.8122495227348061" rpy="0.00000000000000033307 0 0"/>
        <parent link="ring_proximal"/>
        <axis xyz="0.9904648613223425 0.03489949532287934 -0.1332718414066574"/>
        <child link="_ring_distal_l0"/>
    </joint>

    
    <link name="_ring_distal_l1">
        <visual>
            <origin xyz="0 0 -0.00000000000000000000" rpy="0 0 0.00000000000000033307"/>
            <geometry><box size="0 0 0"/></geometry>
            <material name="r11950"><color rgba="0 0 0 0"/></material>
        </visual>
        <inertial>
            <mass value="1"/>
            <inertia ixx="1.0" ixy="0.0" ixz="0.0" iyy="1.0" iyz="0.0" izz="1.0"/>
        </inertial>
    </link>
    <joint name="_ring_distal_j01" type="revolute">
        <origin xyz="0 0 0.00000000000000000000" rpy="0 0 0"/>
        <parent link="_ring_distal_l0"/>
        <child link="_ring_distal_l1"/>
        <axis xyz="0.9904648613223425 0.03489949532287934 -0.1332718414066574"/>
        <mimic joint="Ring" multiplier="1.34878317629562793911" offset="-0.00000000000000033307"/>
        <limit lower="-0.00000000000000033307" upper="1.34878317629562749502" effort="0" velocity="0"/>
    </joint>


    <joint name="_ring_distal_j_ring_distal" type="fixed">
        <origin xyz="-1.1013923470306217 7.892249906746441 -0.8122495227348061" rpy="0.00000000000000033307 0 0"/>
        <parent link="_ring_distal_l1"/>
        <child link="ring_distal"/>
    </joint>
    <link name="ring_knuckle">
        <visual>
            <origin xyz="0.0 0.0 0.0" rpy="0 0 0"/>
            <geometry><mesh filename="package://hand_pack/urdf/linear_meshes/right_ring_knuckle.STL" scale="-0.0625 -0.0625 -0.0625"/></geometry>
            <material name=""><color rgba="0.1 0.1 0.7 1.0"/></material>
        </visual>
        <inertial>
            <mass value="0"/>
            <inertia ixx="0.0" ixy="0.0" ixz="0.0" iyy="0.0" iyz="0.0" izz="0.0"/>
        </inertial>
    </link>
        <link name="_ring_knuckle_l0">
        <visual>
            <origin xyz="0 0 0" rpy="0 0 0"/>
            <geometry><box size="0 0 0"/></geometry>
            <material name=""><color rgba="0 0 0 0"/></material>
        </visual>
        <inertial>
            <mass value="0"/>
            <inertia ixx="0.0" ixy="0.0" ixz="0.0" iyy="0.0" iyz="0.0" izz="0.0"/>
        </inertial>
    </link>

    <joint name="_ring_knuckle_j_input_joint" type="fixed">
        <origin xyz="1.076287437386446 -5.513612382054195 1.2467379346586647" rpy="0.00000000000000033307 0 0"/>
        <parent link="ring_proximal"/>
        <axis xyz="-0.9904648595323436 -0.034899502408724456 0.13327185285422538"/>
        <child link="_ring_knuckle_l0"/>
    </joint>

    
    <link name="_ring_knuckle_l1">
        <visual>
            <origin xyz="0 0 -0.00000000000000000000" rpy="0 0 0.00000000000000033307"/>
            <geometry><box size="0 0 0"/></geometry>
            <material name="r39382"><color rgba="0 0 0 0"/></material>
        </visual>
        <inertial>
            <mass value="1"/>
            <inertia ixx="1.0" ixy="0.0" ixz="0.0" iyy="1.0" iyz="0.0" izz="1.0"/>
        </inertial>
    </link>
    <joint name="_ring_knuckle_j01" type="revolute">
        <origin xyz="0 0 0.00000000000000000000" rpy="0 0 0"/>
        <parent link="_ring_knuckle_l0"/>
        <child link="_ring_knuckle_l1"/>
        <axis xyz="-0.9904648595323436 -0.034899502408724456 0.13327185285422538"/>
        <mimic joint="Ring" multiplier="1.25181510906761461754" offset="-0.00000000000000033307"/>
        <limit lower="-0.00000000000000033307" upper="1.25181510906761417345" effort="0" velocity="0"/>
    </joint>


    <joint name="_ring_knuckle_j_ring_knuckle" type="fixed">
        <origin xyz="-1.076287437386446 5.513612382054195 -1.2467379346586647" rpy="0.00000000000000033307 0 0"/>
        <parent link="_ring_knuckle_l1"/>
        <child link="ring_knuckle"/>
    </joint>
    <link name="ring_follower">
        <visual>
            <origin xyz="0.0 0.0 0.0" rpy="0 0 0"/>
            <geometry><mesh filename="package://hand_pack/urdf/linear_meshes/right_ring_follower.STL" scale="-0.0625 -0.0625 -0.0625"/></geometry>
            <material name=""><color rgba="0.1 0.7 0.1 1.0"/></material>
        </visual>
        <inertial>
            <mass value="0"/>
            <inertia ixx="0.0" ixy="0.0" ixz="0.0" iyy="0.0" iyz="0.0" izz="0.0"/>
        </inertial>
    </link>
        <link name="_ring_follower_l0">
        <visual>
            <origin xyz="0 0 0" rpy="0 0 0"/>
            <geometry><box size="0 0 0"/></geometry>
            <material name=""><color rgba="0 0 0 0"/></material>
        </visual>
        <inertial>
            <mass value="0"/>
            <inertia ixx="0.0" ixy="0.0" ixz="0.0" iyy="0.0" iyz="0.0" izz="0.0"/>
        </inertial>
    </link>

    <joint name="_ring_follower_j_input_joint" type="fixed">
        <origin xyz="1.0102042572973156 -4.387462722072228 1.078451840885562" rpy="0.00000000000000005551 0 0"/>
        <parent link="ring_knuckle"/>
        <axis xyz="-0.99046478428178 -0.03489870585914611 0.13327262069533985"/>
        <child link="_ring_follower_l0"/>
    </joint>

    
    <link name="_ring_follower_l1">
        <visual>
            <origin xyz="0 0 -0.00000000000000000000" rpy="0 0 0.00000000000000005551"/>
            <geometry><box size="0 0 0"/></geometry>
            <material name="r2479"><color rgba="0 0 0 0"/></material>
        </visual>
        <inertial>
            <mass value="1"/>
            <inertia ixx="1.0" ixy="0.0" ixz="0.0" iyy="1.0" iyz="0.0" izz="1.0"/>
        </inertial>
    </link>
    <joint name="_ring_follower_j01" type="revolute">
        <origin xyz="0 0 0.00000000000000000000" rpy="0 0 0"/>
        <parent link="_ring_follower_l0"/>
        <child link="_ring_follower_l1"/>
        <axis xyz="-0.99046478428178 -0.03489870585914611 0.13327262069533985"/>
        <mimic joint="Ring" multiplier="0.26423062522385398765" offset="-0.00000000000000005551"/>
        <limit lower="-0.00000000000000005551" upper="0.26423062522385393214" effort="0" velocity="0"/>
    </joint>


    <joint name="_ring_follower_j_ring_follower" type="fixed">
        <origin xyz="-1.0102042572973156 4.387462722072228 -1.078451840885562" rpy="0.00000000000000005551 0 0"/>
        <parent link="_ring_follower_l1"/>
        <child link="ring_follower"/>
    </joint>
    <link name="ring_link">
        <visual>
            <origin xyz="0.0 0.0 0.0" rpy="0 0 0"/>
            <geometry><mesh filename="package://hand_pack/urdf/linear_meshes/right_ring_link.STL" scale="-0.0625 -0.0625 -0.0625"/></geometry>
            <material name=""><color rgba="0.7 0.1 0.1 1.0"/></material>
        </visual>
        <inertial>
            <mass value="0"/>
            <inertia ixx="0.0" ixy="0.0" ixz="0.0" iyy="0.0" iyz="0.0" izz="0.0"/>
        </inertial>
    </link>
        <link name="_ring_link_l0">
        <visual>
            <origin xyz="0 0 0" rpy="0 0 0"/>
            <geometry><box size="0 0 0"/></geometry>
            <material name=""><color rgba="0 0 0 0"/></material>
        </visual>
        <inertial>
            <mass value="0"/>
            <inertia ixx="0.0" ixy="0.0" ixz="0.0" iyy="0.0" iyz="0.0" izz="0.0"/>
        </inertial>
    </link>

    <joint name="_ring_link_j_input_joint" type="fixed">
        <origin xyz="1.078572100240299 -5.984454531834645 0.9417015242120699" rpy="0.00000000000000027756 0 0"/>
        <parent link="base_link"/>
        <axis xyz="0.9904648586488499 0.03489949747682052 -0.1332718607117766"/>
        <child link="_ring_link_l0"/>
    </joint>

    
    <link name="_ring_link_l1">
        <visual>
            <origin xyz="0 0 -0.00000000000000000000" rpy="0 0 0.00000000000000027756"/>
            <geometry><box size="0 0 0"/></geometry>
            <material name="r28444"><color rgba="0 0 0 0"/></material>
        </visual>
        <inertial>
            <mass value="1"/>
            <inertia ixx="1.0" ixy="0.0" ixz="0.0" iyy="1.0" iyz="0.0" izz="1.0"/>
        </inertial>
    </link>
    <joint name="_ring_link_j01" type="revolute">
        <origin xyz="0 0 0.00000000000000000000" rpy="0 0 0"/>
        <parent link="_ring_link_l0"/>
        <child link="_ring_link_l1"/>
        <axis xyz="0.9904648586488499 0.03489949747682052 -0.1332718607117766"/>
        <mimic joint="Ring" multiplier="1.34878364034376629910" offset="-0.00000000000000027756"/>
        <limit lower="-0.00000000000000027756" upper="1.34878364034376607705" effort="0" velocity="0"/>
    </joint>


    <joint name="_ring_link_j_ring_link" type="fixed">
        <origin xyz="-1.078572100240299 5.984454531834645 -0.9417015242120699" rpy="0.00000000000000027756 0 0"/>
        <parent link="_ring_link_l1"/>
        <child link="ring_link"/>
    </joint>
    <link name="little_proximal">
        <visual>
            <origin xyz="0.0 0.0 0.0" rpy="0 0 0"/>
            <geometry><mesh filename="package://hand_pack/urdf/linear_meshes/right_little_proximal.STL" scale="-0.0625 -0.0625 -0.0625"/></geometry>
            <material name=""><color rgba="1.0 1.0 1.0 1.0"/></material>
        </visual>
        <inertial>
            <mass value="0"/>
            <inertia ixx="0.0" ixy="0.0" ixz="0.0" iyy="0.0" iyz="0.0" izz="0.0"/>
        </inertial>
    </link>
        <link name="_little_proximal_l0">
        <visual>
            <origin xyz="0 0 0" rpy="0 0 0"/>
            <geometry><box size="0 0 0"/></geometry>
            <material name=""><color rgba="0 0 0 0"/></material>
        </visual>
        <inertial>
            <mass value="0"/>
            <inertia ixx="0.0" ixy="0.0" ixz="0.0" iyy="0.0" iyz="0.0" izz="0.0"/>
        </inertial>
    </link>

    <joint name="_little_proximal_j_input_joint" type="fixed">
        <origin xyz="2.057319724224253 -5.270538765035208 0.24661281778517774" rpy="0.00000000000000022204 0 0"/>
        <parent link="base_link"/>
        <axis xyz="0.9786112745748743 0.10442184811921981 -0.1772457359439341"/>
        <child link="_little_proximal_l0"/>
    </joint>

    
    <link name="_little_proximal_l1">
        <visual>
            <origin xyz="0 0 -0.00000000000000000000" rpy="0 0 0.00000000000000022204"/>
            <geometry><box size="0 0 0"/></geometry>
            <material name="r95420"><color rgba="0 0 0 0"/></material>
        </visual>
        <inertial>
            <mass value="1"/>
            <inertia ixx="1.0" ixy="0.0" ixz="0.0" iyy="1.0" iyz="0.0" izz="1.0"/>
        </inertial>
    </link>
    <joint name="_little_proximal_j01" type="revolute">
        <origin xyz="0 0 0.00000000000000000000" rpy="0 0 0"/>
        <parent link="_little_proximal_l0"/>
        <child link="_little_proximal_l1"/>
        <axis xyz="0.9786112745748743 0.10442184811921981 -0.1772457359439341"/>
        <mimic joint="Little" multiplier="1.51604353824540605267" offset="-0.00000000000000022204"/>
        <limit lower="-0.00000000000000022204" upper="1.51604353824540583062" effort="0" velocity="0"/>
    </joint>


    <joint name="_little_proximal_j_little_proximal" type="fixed">
        <origin xyz="-2.057319724224253 5.270538765035208 -0.24661281778517774" rpy="0.00000000000000022204 0 0"/>
        <parent link="_little_proximal_l1"/>
        <child link="little_proximal"/>
    </joint>
    <link name="little_distal">
        <visual>
            <origin xyz="0.0 0.0 0.0" rpy="0 0 0"/>
            <geometry><mesh filename="package://hand_pack/urdf/linear_meshes/right_little_distal.STL" scale="-0.0625 -0.0625 -0.0625"/></geometry>
            <material name=""><color rgba="1.0 1.0 1.0 1.0"/></material>
        </visual>
        <inertial>
            <mass value="0"/>
            <inertia ixx="0.0" ixy="0.0" ixz="0.0" iyy="0.0" iyz="0.0" izz="0.0"/>
        </inertial>
    </link>
        <link name="_little_distal_l0">
        <visual>
            <origin xyz="0 0 0" rpy="0 0 0"/>
            <geometry><box size="0 0 0"/></geometry>
            <material name=""><color rgba="0 0 0 0"/></material>
        </visual>
        <inertial>
            <mass value="0"/>
            <inertia ixx="0.0" ixy="0.0" ixz="0.0" iyy="0.0" iyz="0.0" izz="0.0"/>
        </inertial>
    </link>

    <joint name="_little_distal_j_input_joint" type="fixed">
        <origin xyz="2.2520633889913793 -6.742798507484316 0.4576241639059808" rpy="-0.00000001490116086078 0 0"/>
        <parent link="little_proximal"/>
        <axis xyz="0.9786112688356977 0.1044218162920877 -0.177245786381644"/>
        <child link="_little_distal_l0"/>
    </joint>

    
    <link name="_little_distal_l1">
        <visual>
            <origin xyz="0 0 -0.00000000000000000000" rpy="0 0 -0.00000001490116086078"/>
            <geometry><box size="0 0 0"/></geometry>
            <material name="r54894"><color rgba="0 0 0 0"/></material>
        </visual>
        <inertial>
            <mass value="1"/>
            <inertia ixx="1.0" ixy="0.0" ixz="0.0" iyy="1.0" iyz="0.0" izz="1.0"/>
        </inertial>
    </link>
    <joint name="_little_distal_j01" type="revolute">
        <origin xyz="0 0 0.00000000000000000000" rpy="0 0 0"/>
        <parent link="_little_distal_l0"/>
        <child link="_little_distal_l1"/>
        <axis xyz="0.9786112688356977 0.1044218162920877 -0.177245786381644"/>
        <mimic joint="Little" multiplier="1.31664152870820272412" offset="0.00000001490116086078"/>
        <limit lower="0.00000001490116086078" upper="1.31664154360936347388" effort="0" velocity="0"/>
    </joint>


    <joint name="_little_distal_j_little_distal" type="fixed">
        <origin xyz="-2.2520633889913793 6.742798507484316 -0.4576241639059808" rpy="-0.00000001490116086078 0 0"/>
        <parent link="_little_distal_l1"/>
        <child link="little_distal"/>
    </joint>
    <link name="little_knuckle">
        <visual>
            <origin xyz="0.0 0.0 0.0" rpy="0 0 0"/>
            <geometry><mesh filename="package://hand_pack/urdf/linear_meshes/right_little_knuckle.STL" scale="-0.0625 -0.0625 -0.0625"/></geometry>
            <material name=""><color rgba="0.1 0.1 0.7 1.0"/></material>
        </visual>
        <inertial>
            <mass value="0"/>
            <inertia ixx="0.0" ixy="0.0" ixz="0.0" iyy="0.0" iyz="0.0" izz="0.0"/>
        </inertial>
    </link>
        <link name="_little_knuckle_l0">
        <visual>
            <origin xyz="0 0 0" rpy="0 0 0"/>
            <geometry><box size="0 0 0"/></geometry>
            <material name=""><color rgba="0 0 0 0"/></material>
        </visual>
        <inertial>
            <mass value="0"/>
            <inertia ixx="0.0" ixy="0.0" ixz="0.0" iyy="0.0" iyz="0.0" izz="0.0"/>
        </inertial>
    </link>

    <joint name="_little_knuckle_j_input_joint" type="fixed">
        <origin xyz="2.120049770560409 -4.884666340842449 0.8121441650432416" rpy="-0.00000001490116097180 0 0"/>
        <parent link="little_proximal"/>
        <axis xyz="-0.9786112715268198 -0.10442182673933997 0.1772457653685416"/>
        <child link="_little_knuckle_l0"/>
    </joint>

    
    <link name="_little_knuckle_l1">
        <visual>
            <origin xyz="0 0 -0.00000000000000000000" rpy="0 0 -0.00000001490116097180"/>
            <geometry><box size="0 0 0"/></geometry>
            <material name="r97521"><color rgba="0 0 0 0"/></material>
        </visual>
        <inertial>
            <mass value="1"/>
            <inertia ixx="1.0" ixy="0.0" ixz="0.0" iyy="1.0" iyz="0.0" izz="1.0"/>
        </inertial>
    </link>
    <joint name="_little_knuckle_j01" type="revolute">
        <origin xyz="0 0 0.00000000000000000000" rpy="0 0 0"/>
        <parent link="_little_knuckle_l0"/>
        <child link="_little_knuckle_l1"/>
        <axis xyz="-0.9786112715268198 -0.10442182673933997 0.1772457653685416"/>
        <mimic joint="Little" multiplier="1.25181529061989249563" offset="0.00000001490116097180"/>
        <limit lower="0.00000001490116097180" upper="1.25181530552105346743" effort="0" velocity="0"/>
    </joint>


    <joint name="_little_knuckle_j_little_knuckle" type="fixed">
        <origin xyz="-2.120049770560409 4.884666340842449 -0.8121441650432416" rpy="-0.00000001490116097180 0 0"/>
        <parent link="_little_knuckle_l1"/>
        <child link="little_knuckle"/>
    </joint>
    <link name="little_follower">
        <visual>
            <origin xyz="0.0 0.0 0.0" rpy="0 0 0"/>
            <geometry><mesh filename="package://hand_pack/urdf/linear_meshes/right_little_follower.STL" scale="-0.0625 -0.0625 -0.0625"/></geometry>
            <material name=""><color rgba="0.1 0.7 0.1 1.0"/></material>
        </visual>
        <inertial>
            <mass value="0"/>
            <inertia ixx="0.0" ixy="0.0" ixz="0.0" iyy="0.0" iyz="0.0" izz="0.0"/>
        </inertial>
    </link>
        <link name="_little_follower_l0">
        <visual>
            <origin xyz="0 0 0" rpy="0 0 0"/>
            <geometry><box size="0 0 0"/></geometry>
            <material name=""><color rgba="0 0 0 0"/></material>
        </visual>
        <inertial>
            <mass value="0"/>
            <inertia ixx="0.0" ixy="0.0" ixz="0.0" iyy="0.0" iyz="0.0" izz="0.0"/>
        </inertial>
    </link>

    <joint name="_little_follower_j_input_joint" type="fixed">
        <origin xyz="1.9684499144753422 -3.76508855610884 0.6557183186033343" rpy="0.00000000000000005551 0 0"/>
        <parent link="little_knuckle"/>
        <axis xyz="-0.9786113234476818 -0.10442071454400961 0.1772461339327191"/>
        <child link="_little_follower_l0"/>
    </joint>

    
    <link name="_little_follower_l1">
        <visual>
            <origin xyz="0 0 -0.00000000000000000000" rpy="0 0 0.00000000000000005551"/>
            <geometry><box size="0 0 0"/></geometry>
            <material name="r3706"><color rgba="0 0 0 0"/></material>
        </visual>
        <inertial>
            <mass value="1"/>
            <inertia ixx="1.0" ixy="0.0" ixz="0.0" iyy="1.0" iyz="0.0" izz="1.0"/>
        </inertial>
    </link>
    <joint name="_little_follower_j01" type="revolute">
        <origin xyz="0 0 0.00000000000000000000" rpy="0 0 0"/>
        <parent link="_little_follower_l0"/>
        <child link="_little_follower_l1"/>
        <axis xyz="-0.9786113234476818 -0.10442071454400961 0.1772461339327191"/>
        <mimic joint="Little" multiplier="0.26422625333146315674" offset="-0.00000000000000005551"/>
        <limit lower="-0.00000000000000005551" upper="0.26422625333146310123" effort="0" velocity="0"/>
    </joint>


    <joint name="_little_follower_j_little_follower" type="fixed">
        <origin xyz="-1.9684499144753422 3.76508855610884 -0.6557183186033343" rpy="0.00000000000000005551 0 0"/>
        <parent link="_little_follower_l1"/>
        <child link="little_follower"/>
    </joint>
    <link name="little_link">
        <visual>
            <origin xyz="0.0 0.0 0.0" rpy="0 0 0"/>
            <geometry><mesh filename="package://hand_pack/urdf/linear_meshes/right_little_link.STL" scale="-0.0625 -0.0625 -0.0625"/></geometry>
            <material name=""><color rgba="0.7 0.1 0.1 1.0"/></material>
        </visual>
        <inertial>
            <mass value="0"/>
            <inertia ixx="0.0" ixy="0.0" ixz="0.0" iyy="0.0" iyz="0.0" izz="0.0"/>
        </inertial>
    </link>
        <link name="_little_link_l0">
        <visual>
            <origin xyz="0 0 0" rpy="0 0 0"/>
            <geometry><box size="0 0 0"/></geometry>
            <material name=""><color rgba="0 0 0 0"/></material>
        </visual>
        <inertial>
            <mass value="0"/>
            <inertia ixx="0.0" ixy="0.0" ixz="0.0" iyy="0.0" iyz="0.0" izz="0.0"/>
        </inertial>
    </link>

    <joint name="_little_link_j_input_joint" type="fixed">
        <origin xyz="2.1349977455383624 -5.35345561586718 0.5047965951115416" rpy="0.00000000000000022204 0 0"/>
        <parent link="base_link"/>
        <axis xyz="0.9786112669174357 0.10442180910601918 -0.17724580120634031"/>
        <child link="_little_link_l0"/>
    </joint>

    
    <link name="_little_link_l1">
        <visual>
            <origin xyz="0 0 -0.00000000000000000000" rpy="0 0 0.00000000000000022204"/>
            <geometry><box size="0 0 0"/></geometry>
            <material name="r29911"><color rgba="0 0 0 0"/></material>
        </visual>
        <inertial>
            <mass value="1"/>
            <inertia ixx="1.0" ixy="0.0" ixz="0.0" iyy="1.0" iyz="0.0" izz="1.0"/>
        </inertial>
    </link>
    <joint name="_little_link_j01" type="revolute">
        <origin xyz="0 0 0.00000000000000000000" rpy="0 0 0"/>
        <parent link="_little_link_l0"/>
        <child link="_little_link_l1"/>
        <axis xyz="0.9786112669174357 0.10442180910601918 -0.17724580120634031"/>
        <mimic joint="Little" multiplier="1.31664159359669974414" offset="-0.00000000000000022204"/>
        <limit lower="-0.00000000000000022204" upper="1.31664159359669952210" effort="0" velocity="0"/>
    </joint>


    <joint name="_little_link_j_little_link" type="fixed">
        <origin xyz="-2.1349977455383624 5.35345561586718 -0.5047965951115416" rpy="0.00000000000000022204 0 0"/>
        <parent link="_little_link_l1"/>
        <child link="little_link"/>
    </joint>
</robot>
